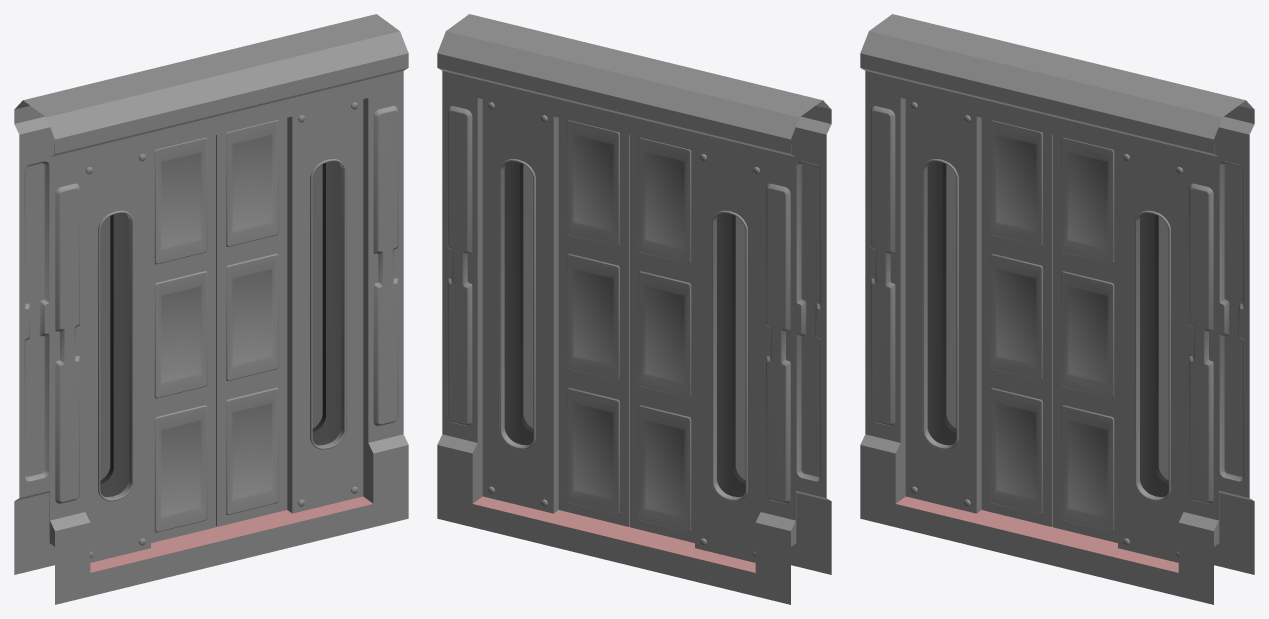
Rendered from PuertaChica.FBX.
3 renders of one model, left to right at view 1: azimuth 30°, elevation 25°; view 2: azimuth 150°, elevation 25°; view 3: azimuth 330°, elevation 25°, orthographic.
Visible parts, largest first — view 1: Puerta005, Object014, Object012, Pared1Sup001, Object010, Object016; view 2: Puerta005, Object014, Object012, Pared1Sup001, Object010, Object016; view 3: Puerta005, Object012, Object014, Pared1Sup001, Object010, Object016.
Part boxes in pixels (box(x1,y1,x2,y2)): Puerta005: box(14, 14, 408, 604); Object014: box(216, 118, 287, 526); Object012: box(151, 135, 215, 542); Pared1Sup001: box(100, 161, 340, 496); Object010: box(100, 161, 341, 496); Object016: box(90, 496, 372, 572); Puerta005: box(437, 14, 831, 604); Object014: box(558, 118, 629, 526); Object012: box(630, 135, 694, 542); Pared1Sup001: box(505, 161, 745, 496); Object010: box(504, 161, 745, 496); Object016: box(473, 496, 755, 572); Puerta005: box(860, 14, 1254, 604); Object012: box(981, 118, 1052, 526); Object014: box(1053, 135, 1117, 542); Pared1Sup001: box(928, 161, 1168, 496); Object010: box(927, 161, 1168, 496); Object016: box(896, 496, 1178, 572).
Size of the model in its own units: 78.74 by 102 by 15.75.
